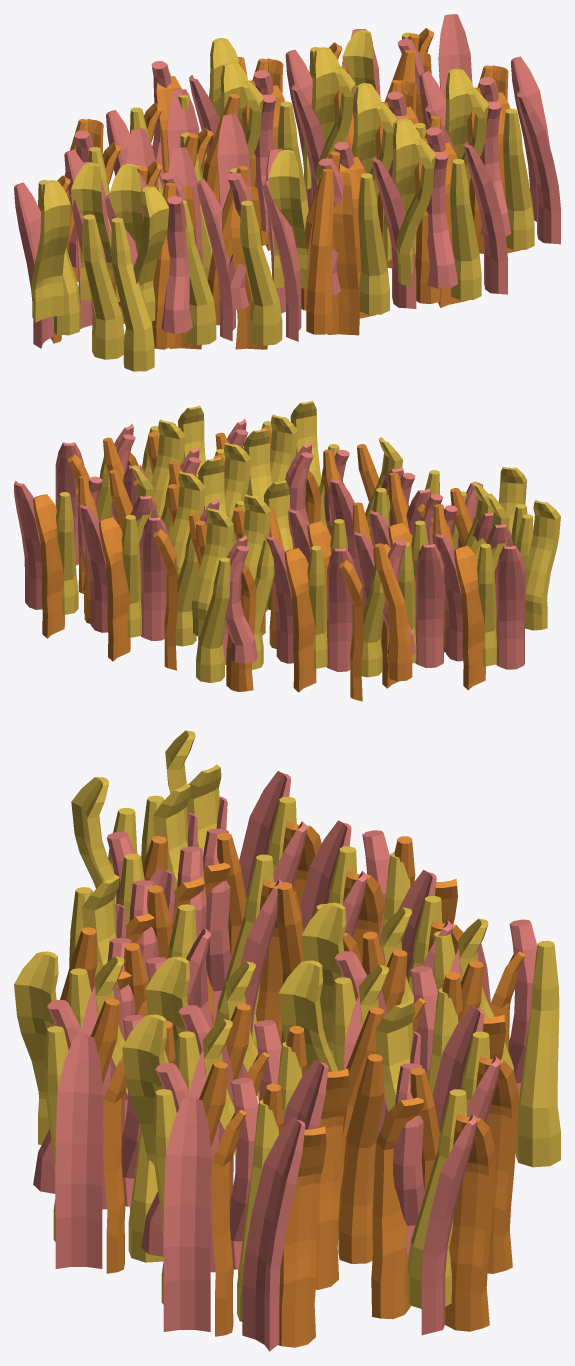
The model's file is Gras 2.2.fbx.
3 renders of one model, top to bottom at view 1: azimuth 30°, elevation 25°; view 2: azimuth 150°, elevation 25°; view 3: azimuth 270°, elevation 25°, orthographic. The views are drawn at different scales.
Visible parts, largest first — view 1: Cube.351; view 2: Cube.351; view 3: Cube.351.
Part boxes in pixels (x1=…): Cube.351: x1=14, y1=14, x2=560, y2=371; Cube.351: x1=14, y1=400, x2=560, y2=701; Cube.351: x1=14, y1=730, x2=560, y2=1351.
Size of the model in its own units: 3801 by 1284 by 2337.
